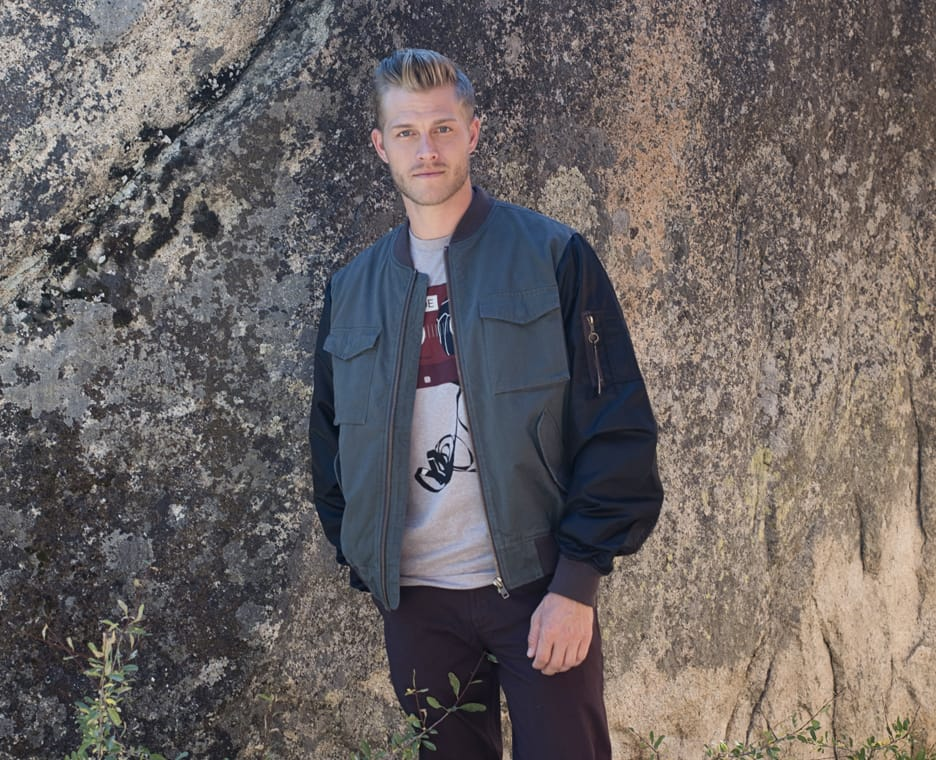NOTSAFE: (347, 44, 566, 594)
